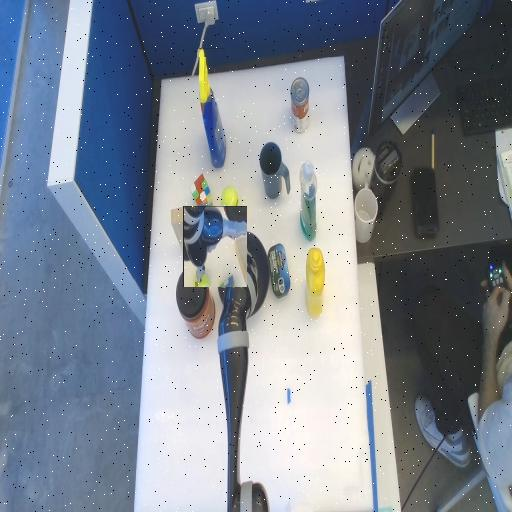bowl: (217, 250, 268, 302)
cleanser: (299, 193, 316, 209)
coffee_can: (176, 267, 214, 338)
jaco: (184, 206, 247, 287)
meat_can: (267, 261, 289, 282)
mug: (259, 143, 289, 199)
mustard_bottle: (305, 249, 324, 317)
rubik: (190, 174, 212, 217)
soup_can: (291, 78, 308, 133)
tennis_ball: (221, 188, 238, 218)
windex: (198, 49, 225, 167)
wooden_block: (171, 208, 195, 254)
workspace: (135, 57, 372, 509)
